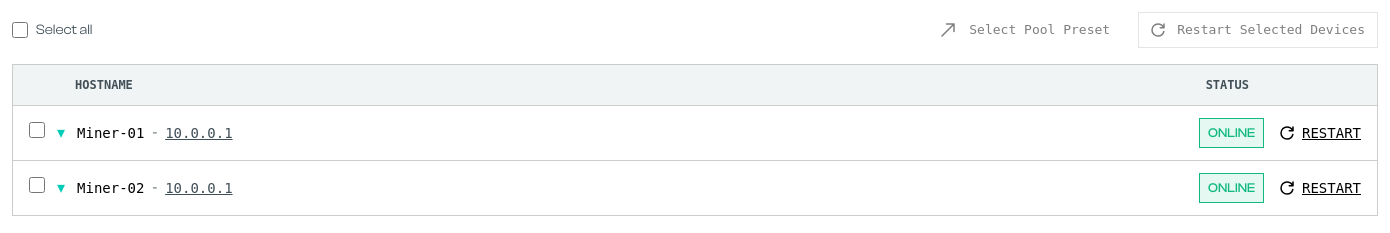
Test: DeviceSettingsAccordion additional coverage › updates one checked item without affecting others
Click the checkbox next to "miner-01" at (37, 130), box [29,122,45,138]
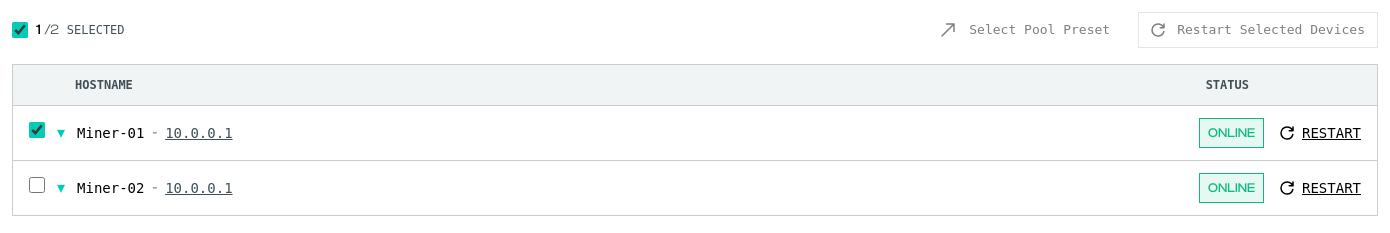
Click the checkbox next to "miner-02" at (37, 185), box [29,177,45,193]
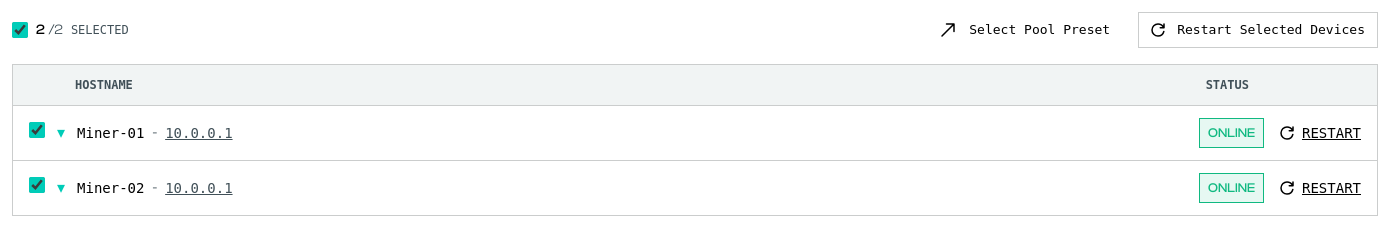
Note: Toggle the first checkbox again - update should preserve the second entry.
Click the checkbox next to "miner-01" at (37, 130), box [29,122,45,138]
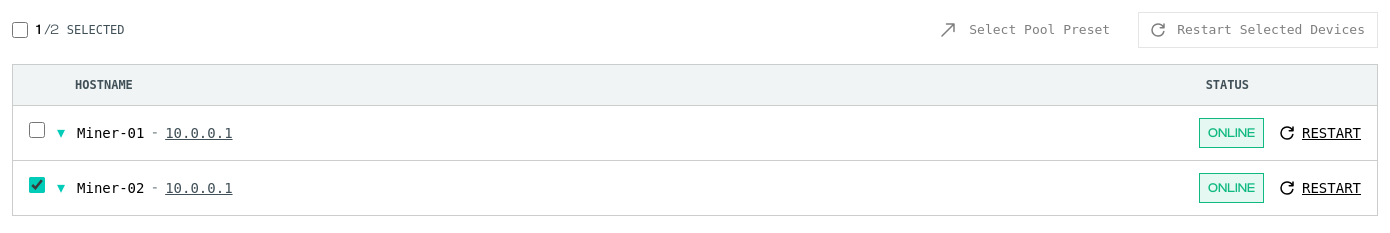
Check: the text "/2" is shown, box [45,20,59,40]
Check: the text "1" is shown, box [36,20,41,40]
